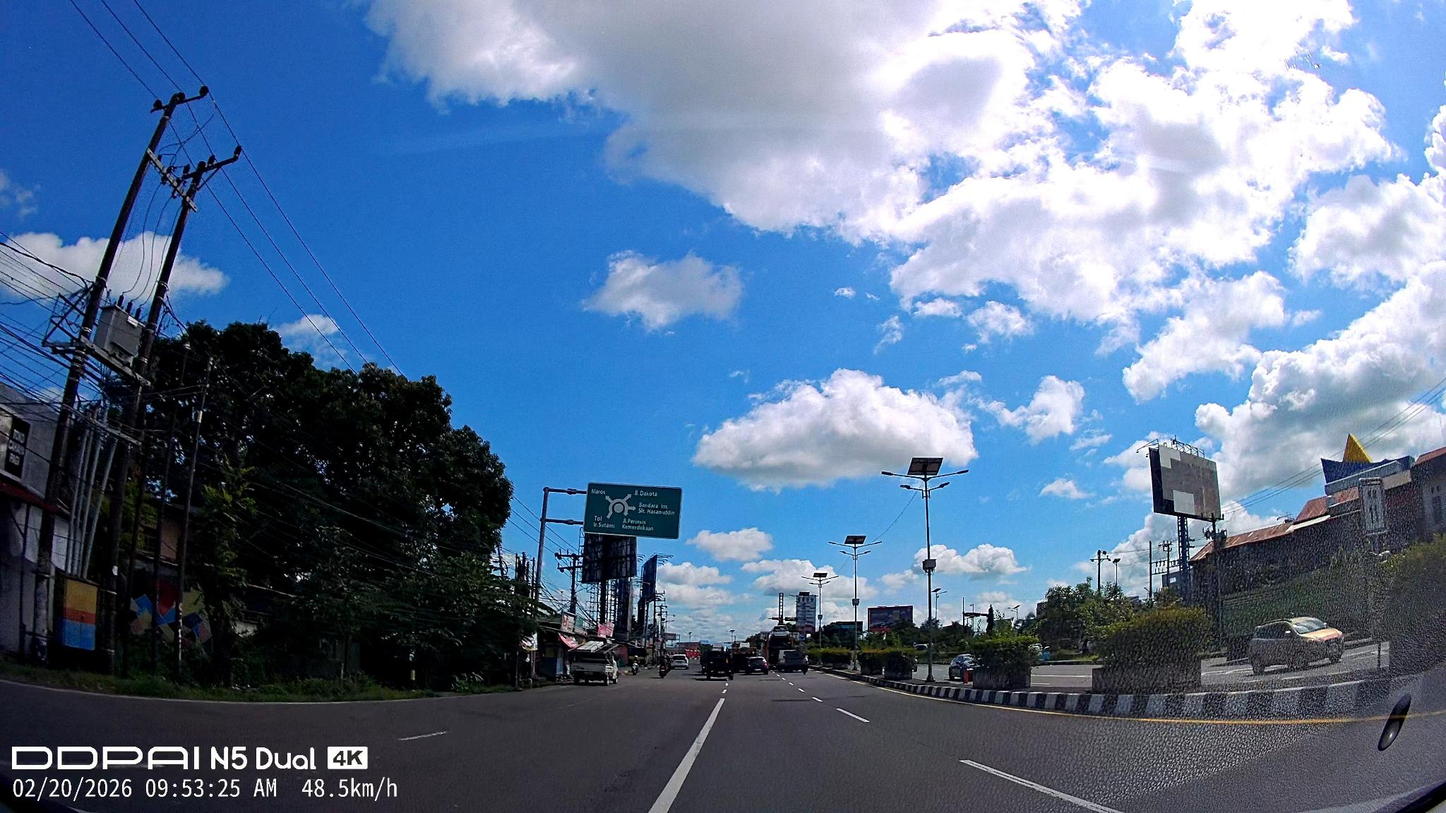rambu_teks: (582, 481, 683, 540)
